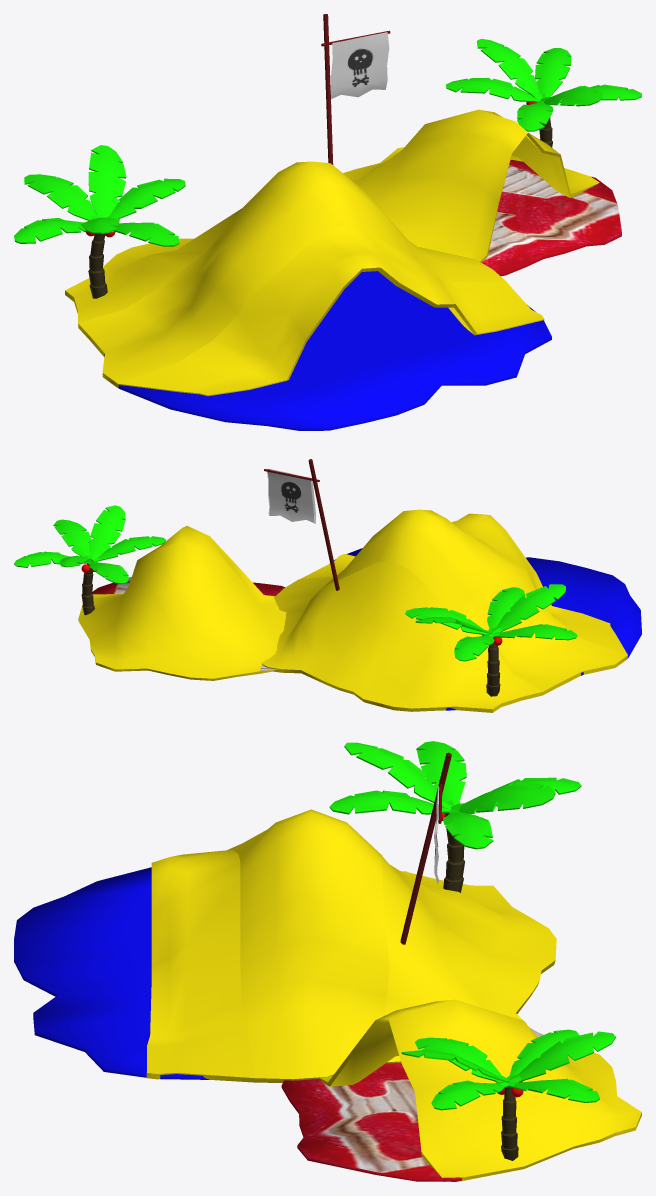
The model's file is PirateIsland 1.FBX.
3 renders of one model, top to bottom at view 1: azimuth 30°, elevation 25°; view 2: azimuth 150°, elevation 25°; view 3: azimuth 270°, elevation 25°, orthographic. The views are drawn at different scales.
Parts seen in each view (by area): view 1: PirateIslandToy, PirateIslandToyColider; view 2: PirateIslandToy, PirateIslandToyColider; view 3: PirateIslandToy, PirateIslandToyColider.
Part boxes in pixels (x1=…): PirateIslandToy: x1=14, y1=14, x2=641, y2=430; PirateIslandToyColider: x1=78, y1=161, x2=506, y2=382; PirateIslandToy: x1=14, y1=459, x2=641, y2=712; PirateIslandToyColider: x1=274, y1=509, x2=627, y2=690; PirateIslandToy: x1=14, y1=741, x2=641, y2=1181; PirateIslandToyColider: x1=227, y1=809, x2=406, y2=1078.
Bounding box in the file's own units: 15.87 × 5.68 × 11.79.
